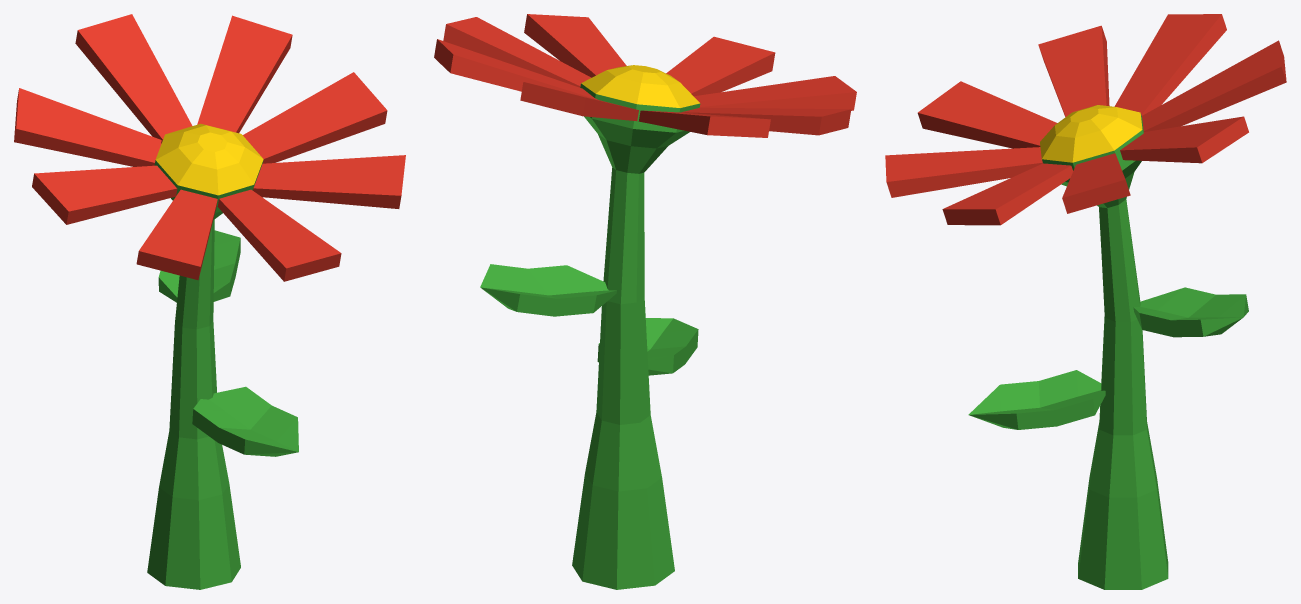
File: flowerRed.glb
3 views of the same model, side by side, from view 1: azimuth 30°, elevation 25°; view 2: azimuth 150°, elevation 25°; view 3: azimuth 270°, elevation 25° (orthographic). The views are drawn at different scales.
Visible parts, largest first — view 1: Flower.002; view 2: Flower.002; view 3: Flower.002.
Boxes of the visible parts, bbox=[...] form: Flower.002: bbox=[14, 14, 405, 589]; Flower.002: bbox=[434, 14, 856, 589]; Flower.002: bbox=[885, 14, 1286, 589].
Bounding box in the file's own units: 18.92 × 26.84 × 19.08.
